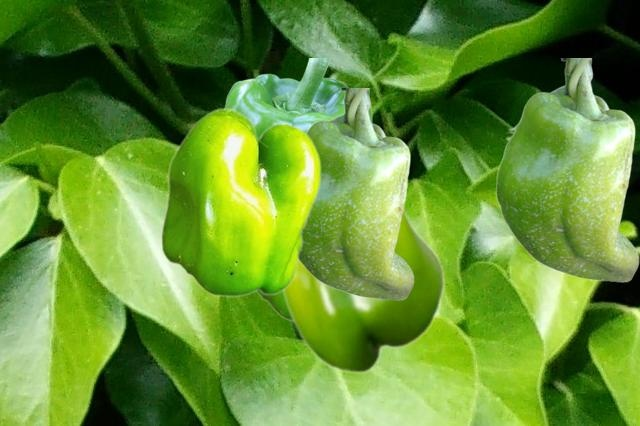bell_pepper: (495, 58, 638, 281), (160, 107, 320, 296), (282, 208, 444, 373), (300, 88, 413, 299), (224, 58, 371, 135), (257, 292, 290, 321)
